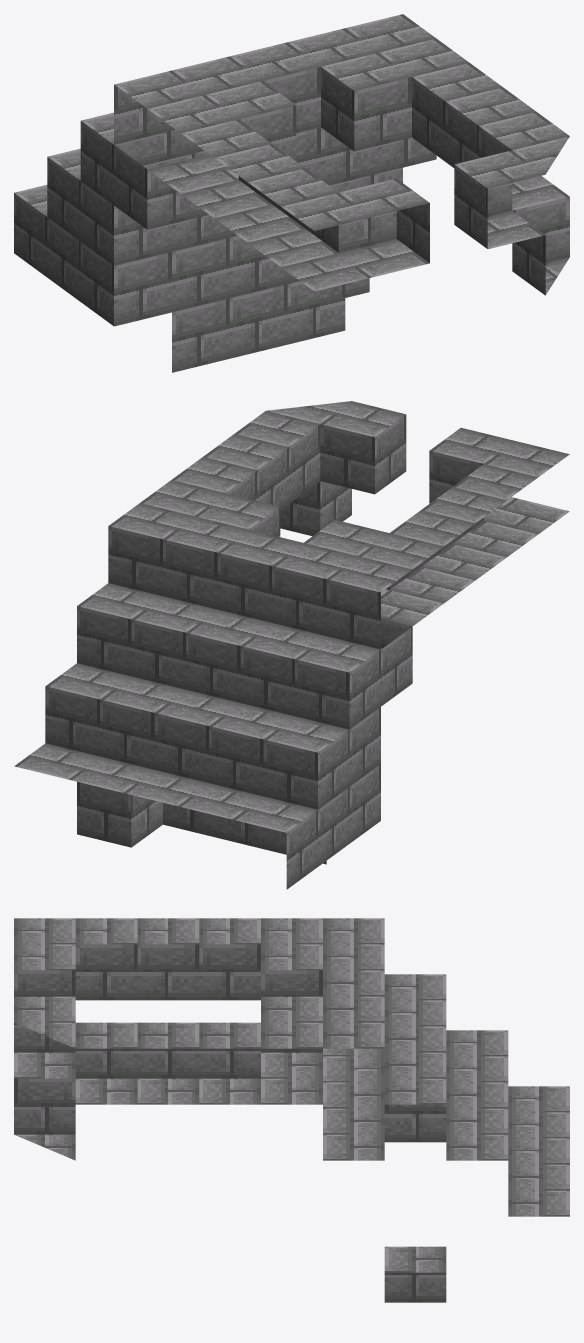
The model's file is Stone_Bricks_Chunk_6_17.fbx.
3 renders of one model, top to bottom at view 1: azimuth 30°, elevation 25°; view 2: azimuth 150°, elevation 25°; view 3: azimuth 270°, elevation 25°, orthographic. The views are drawn at different scales.
Parts seen in each view (by area): view 1: Stone_Bricks_Chunk_6_17; view 2: Stone_Bricks_Chunk_6_17; view 3: Stone_Bricks_Chunk_6_17.
Boxes of the visible parts, bbox=[...] form: Stone_Bricks_Chunk_6_17: bbox=[14, 14, 569, 372]; Stone_Bricks_Chunk_6_17: bbox=[14, 401, 569, 889]; Stone_Bricks_Chunk_6_17: bbox=[14, 918, 569, 1302].
Size of the model in its own units: 500 by 500 by 900.
1 material, 1 textured.
